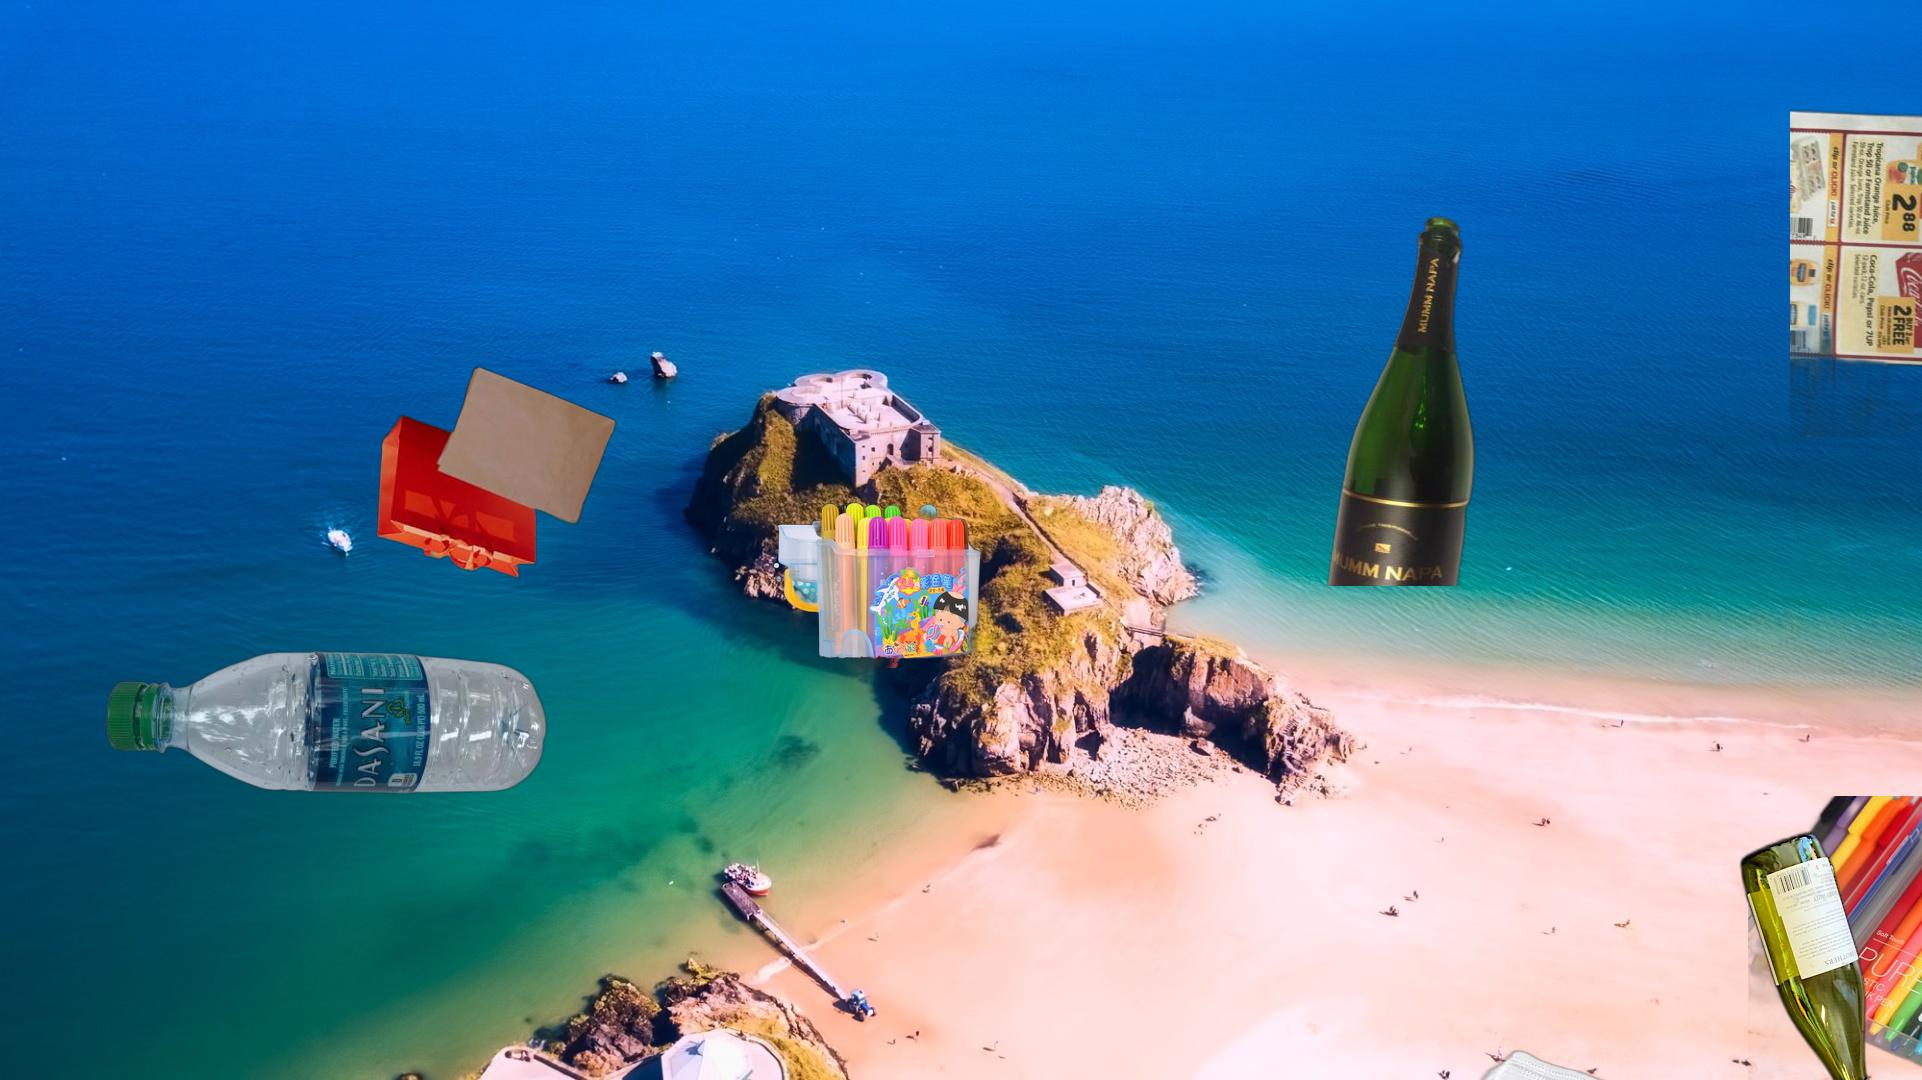glass: (1324, 214, 1478, 586), (1735, 827, 1896, 1080)
paper: (1790, 107, 1922, 437)
paper-bag: (374, 364, 620, 582)
penholder: (1748, 796, 1922, 1080), (771, 500, 983, 672)
plastic-bottles: (102, 650, 550, 797)
trash: (1463, 1047, 1679, 1080)
